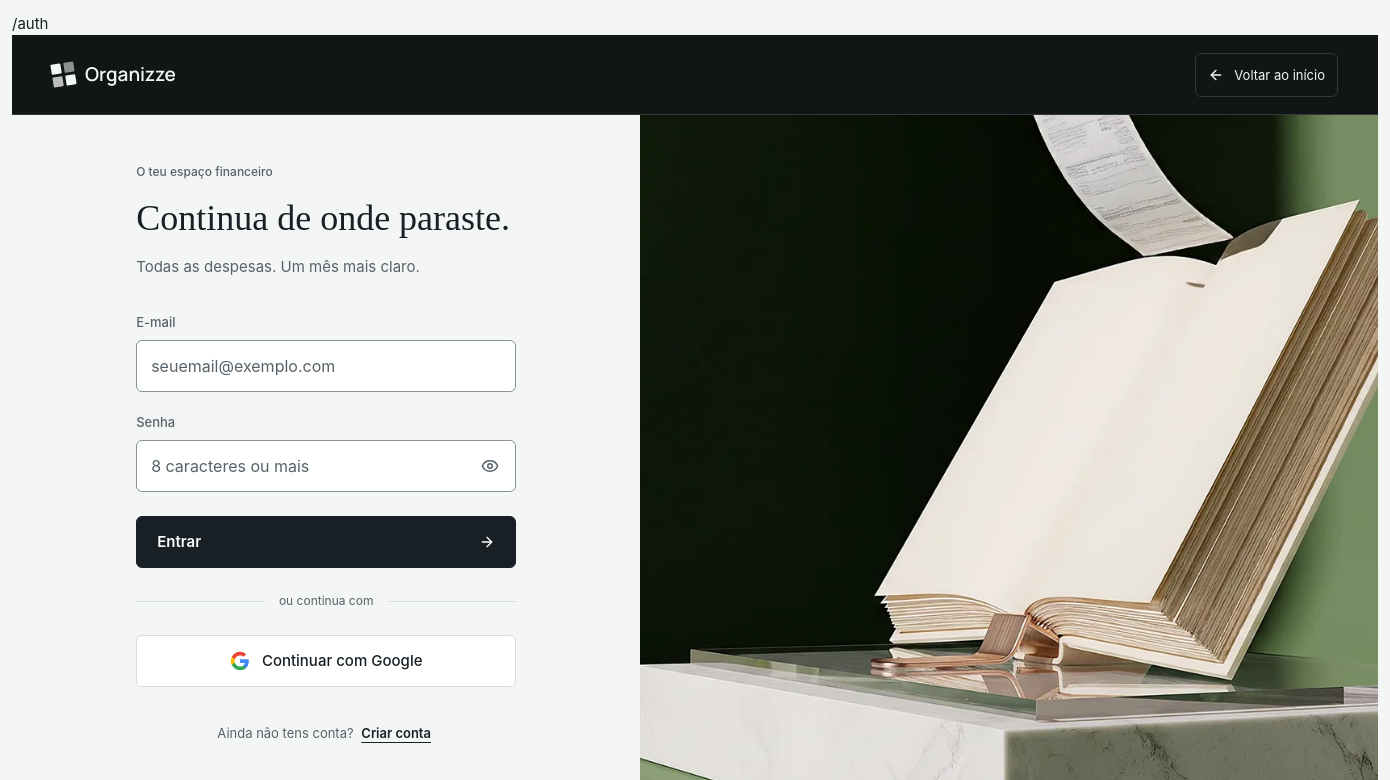
Auth paper form controls › toggles password visibility accessibly in signup without submitting or changing its value
The image size is (1390, 780).
Click the button "Criar conta".
click(396, 733)  # box [357,711,435,755]
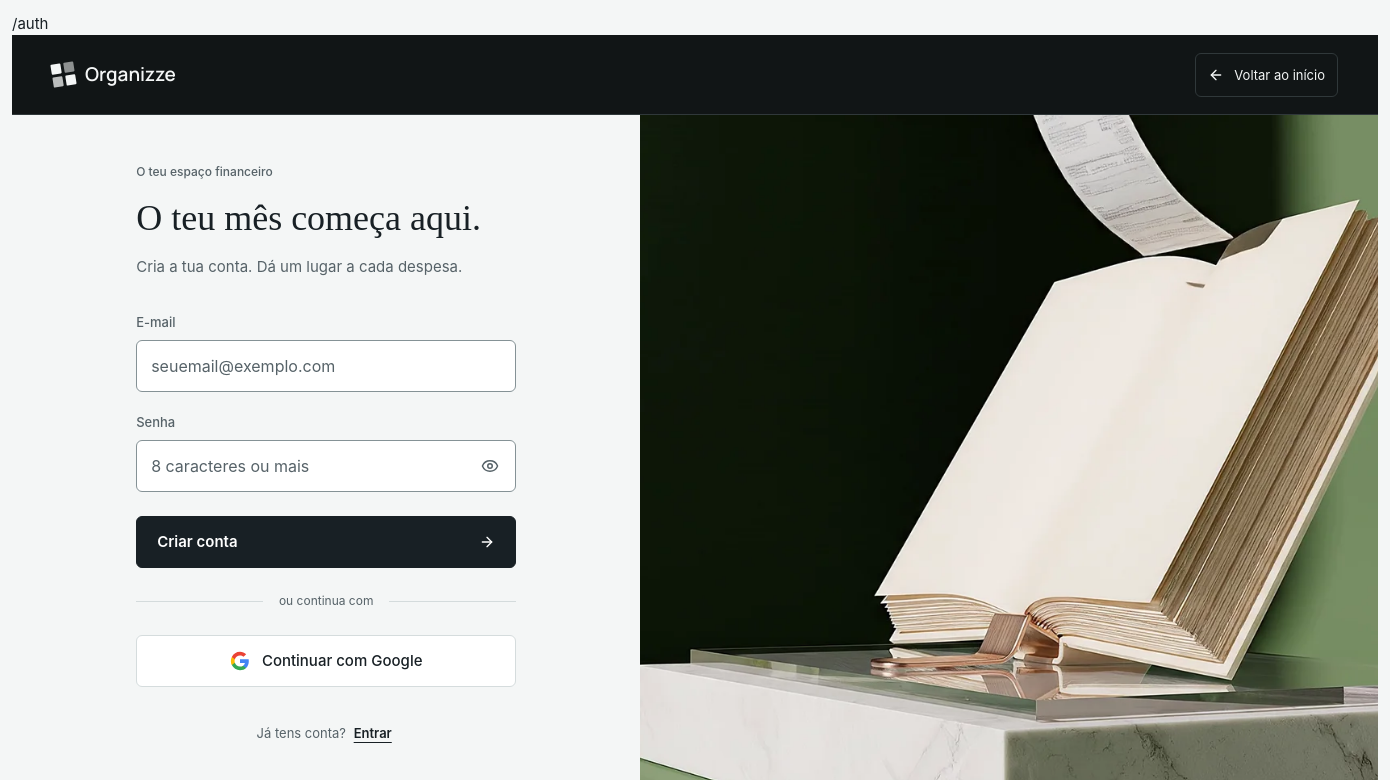
Type "person@example.com" into the field labelled "E-mail".
click(326, 366); type("person@example.com")  # box [136,340,516,392]
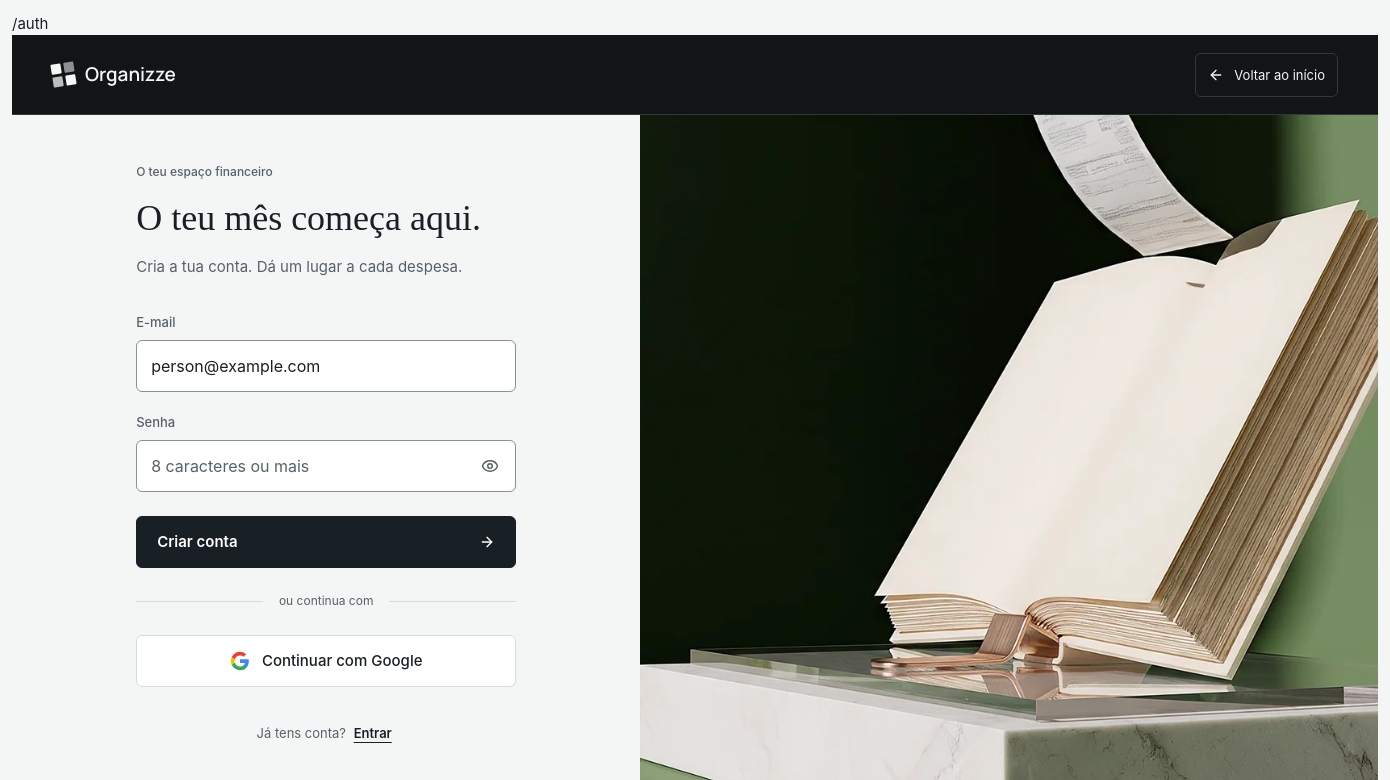
Type " secure-password " into the password field labelled "Senha".
click(326, 466); type(" secure-password ")  # box [136,440,516,492]
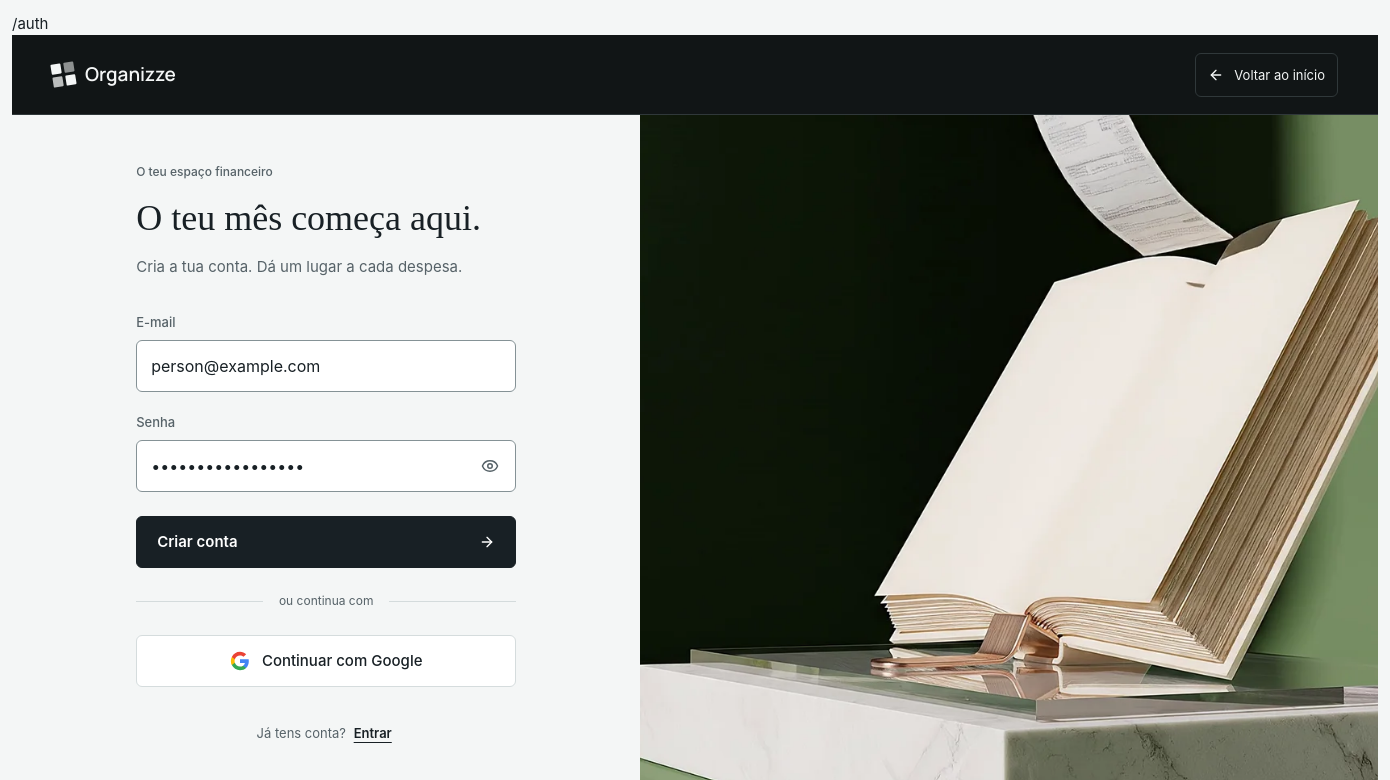
Click the button named "Mostrar senha".
click(490, 466)  # box [468,444,512,488]
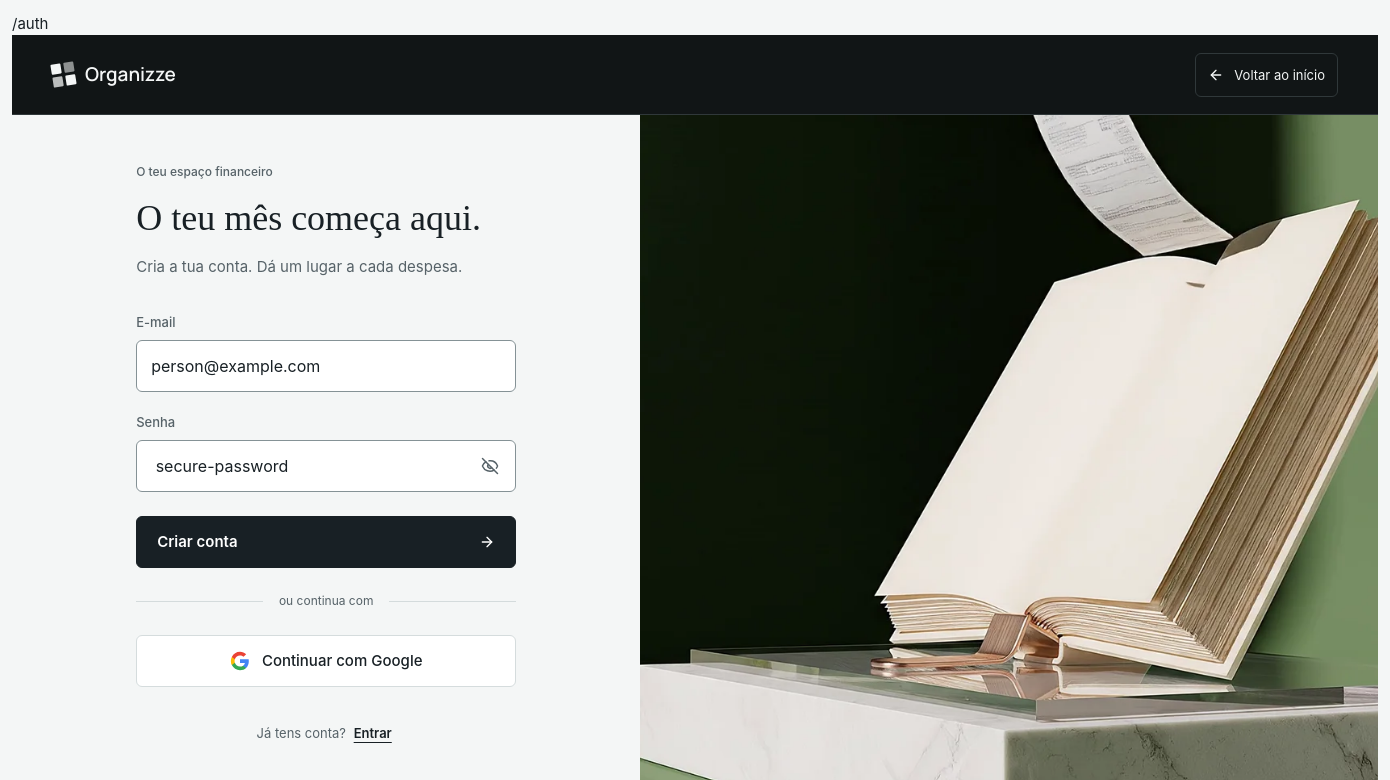
Now the field labelled "Senha" shows its text, box [136,440,516,492]
Click the button named "Ocultar senha".
click(490, 466)  # box [468,444,512,488]
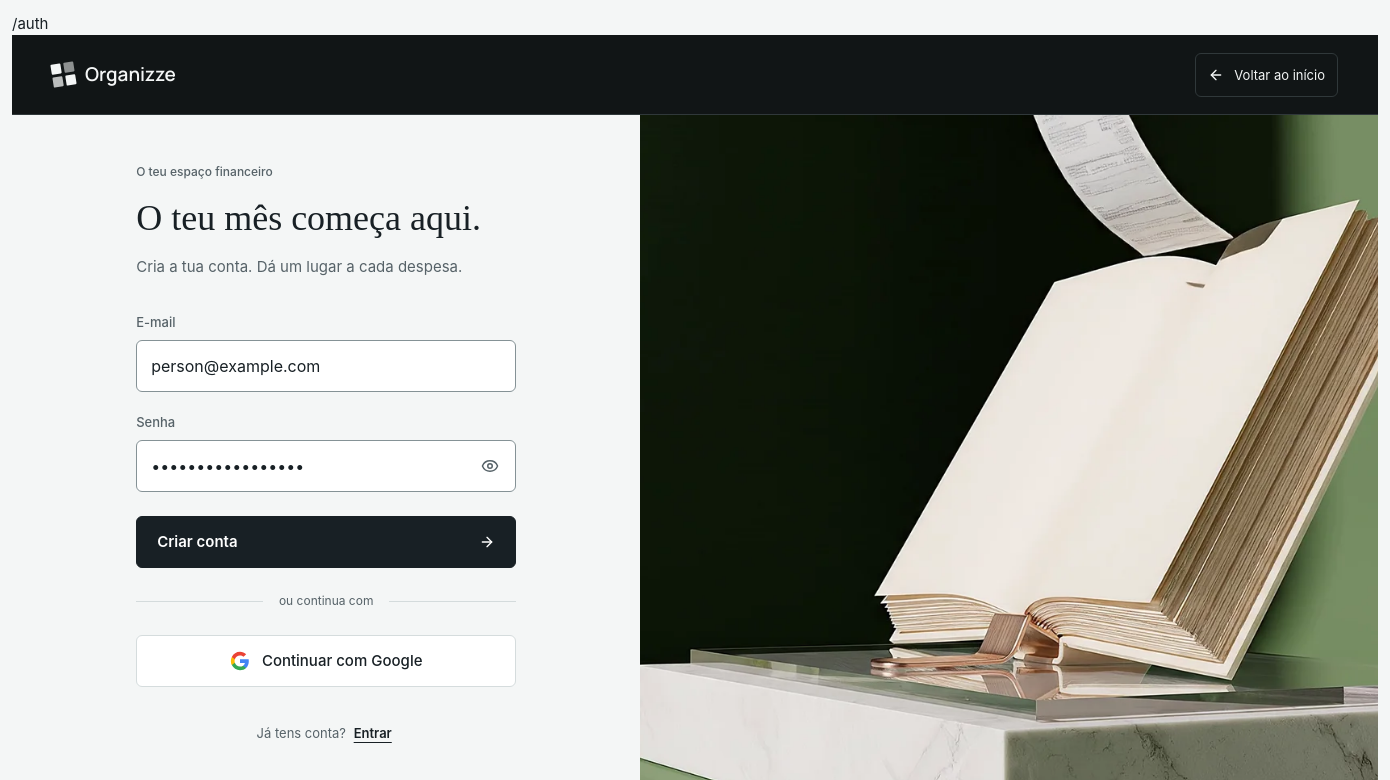
Now the password field labelled "Senha" hides its text, box [136,440,516,492]
